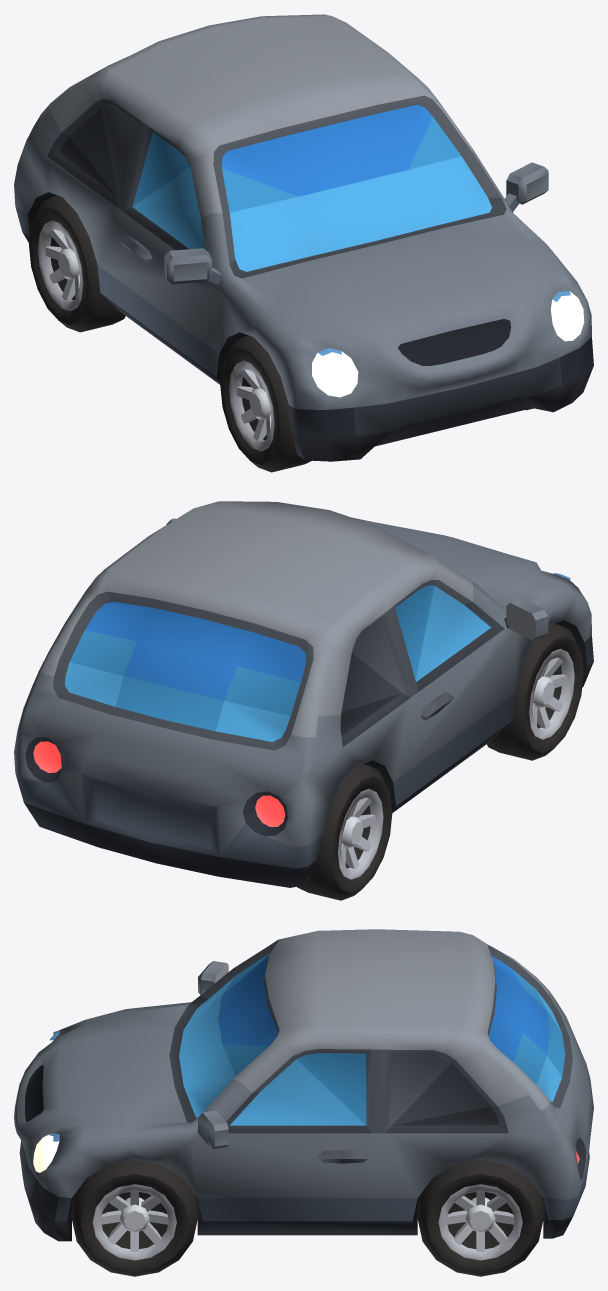
Rendered from car_06_pacote.glb.
3 renders of one model, top to bottom at view 1: azimuth 30°, elevation 25°; view 2: azimuth 150°, elevation 25°; view 3: azimuth 270°, elevation 25°, orthographic. The views are drawn at different scales.
Parts seen in each view (by area): view 1: car_06_pacote, roda_traseira_esq, roda_dianteira_esq; view 2: car_06_pacote, roda_traseira_esq, roda_dianteira_esq; view 3: car_06_pacote, roda_traseira_dir, roda_dianteira_dir.
Part boxes in pixels (x1,y1,x2,y2): car_06_pacote: (14, 14, 593, 461); roda_traseira_esq: (29, 195, 125, 332); roda_dianteira_esq: (220, 335, 311, 472); car_06_pacote: (14, 501, 593, 887); roda_traseira_esq: (297, 764, 392, 900); roda_dianteira_esq: (487, 624, 583, 760); car_06_pacote: (14, 929, 593, 1241); roda_traseira_dir: (417, 1160, 543, 1276); roda_dianteira_dir: (72, 1160, 197, 1276).
Size of the model in its own units: 2.28 by 1.56 by 3.32.
Materials: 4 (1 with a texture image).
